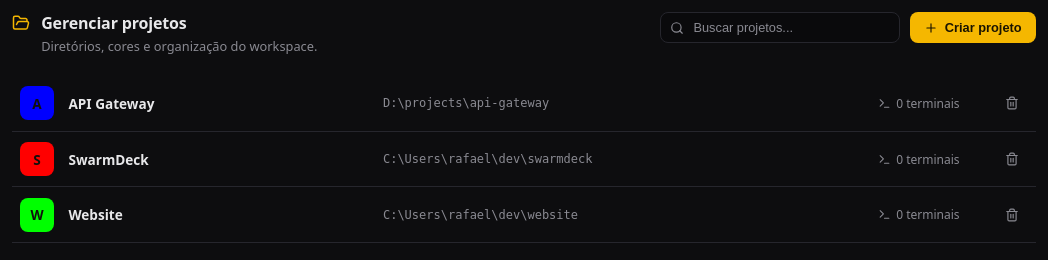
Test: ProjectsPanel › busca filtra por nome (case-insensitive, substring)
This screenshot has width=1048, height=260.
In the search field labelled "Buscar projetos": (780, 28) [660,12,900,43], type "website"
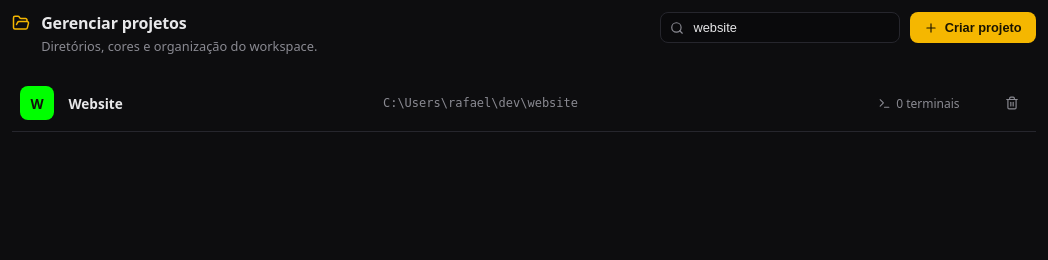
Expected: the text "Website" is shown, [68,94,123,113]
Result: the text "SwarmDeck" is gone
Result: the text "API Gateway" is gone
